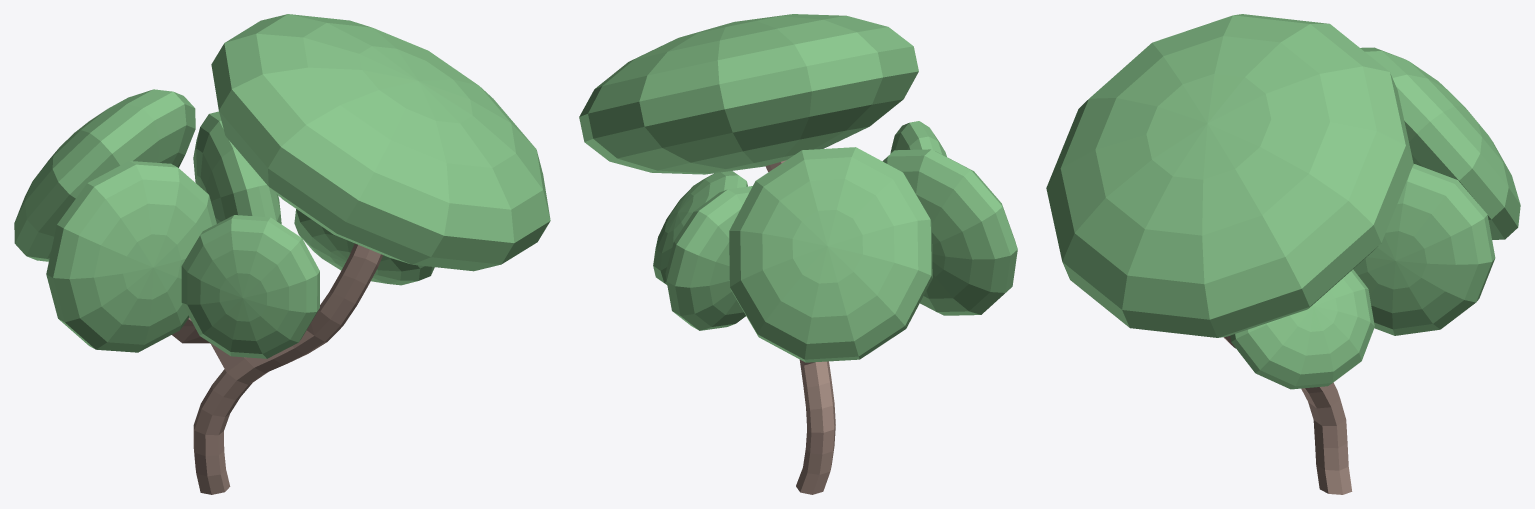
Rendered from Tree2.fbx.
3 views of the same model, side by side, from view 1: azimuth 30°, elevation 25°; view 2: azimuth 150°, elevation 25°; view 3: azimuth 270°, elevation 25° (orthographic). The views are drawn at different scales.
Parts seen in each view (by area): view 1: mesh_1555488662, group_1678952250; view 2: mesh_1555488662, group_1678952250; view 3: mesh_1555488662, group_1678952250.
Part boxes in pixels (left/top/right/bottom): mesh_1555488662: left=14, top=14, right=550, bottom=358; group_1678952250: left=172, top=243, right=382, bottom=494; mesh_1555488662: left=579, top=14, right=1017, bottom=362; group_1678952250: left=765, top=160, right=835, bottom=494; mesh_1555488662: left=1046, top=14, right=1520, bottom=389; group_1678952250: left=1223, top=336, right=1352, bottom=494.
Size of the model in its own units: 117 by 111 by 99.15.
